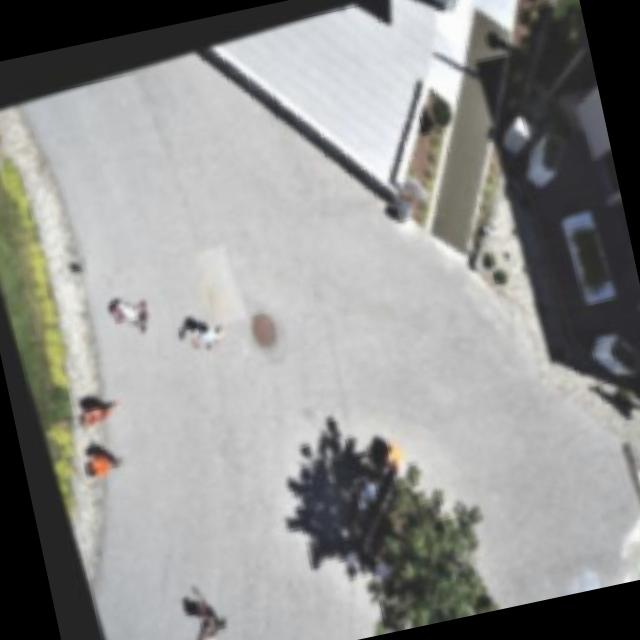Person: (60, 374, 124, 426), (97, 277, 151, 330), (66, 430, 122, 478), (178, 304, 228, 348), (176, 608, 220, 640)
